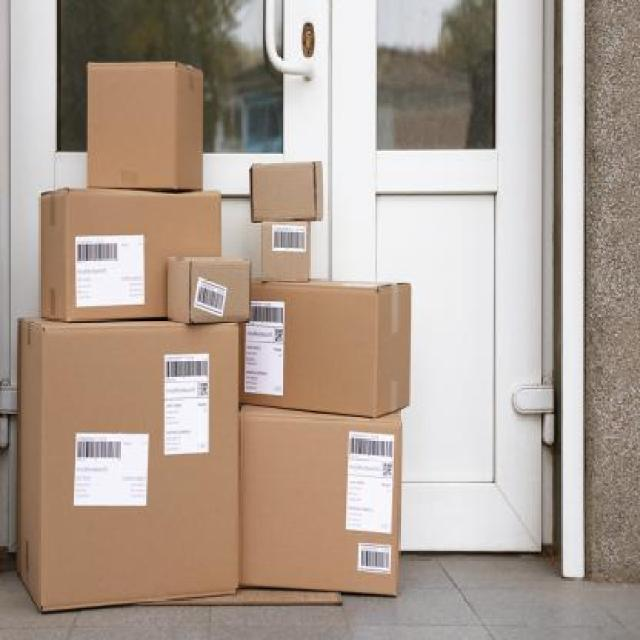cardboxes: (12, 308, 242, 607), (238, 405, 410, 604), (37, 177, 229, 321), (234, 271, 417, 411), (81, 53, 210, 198), (163, 250, 254, 332), (243, 154, 329, 226), (259, 216, 318, 282)
